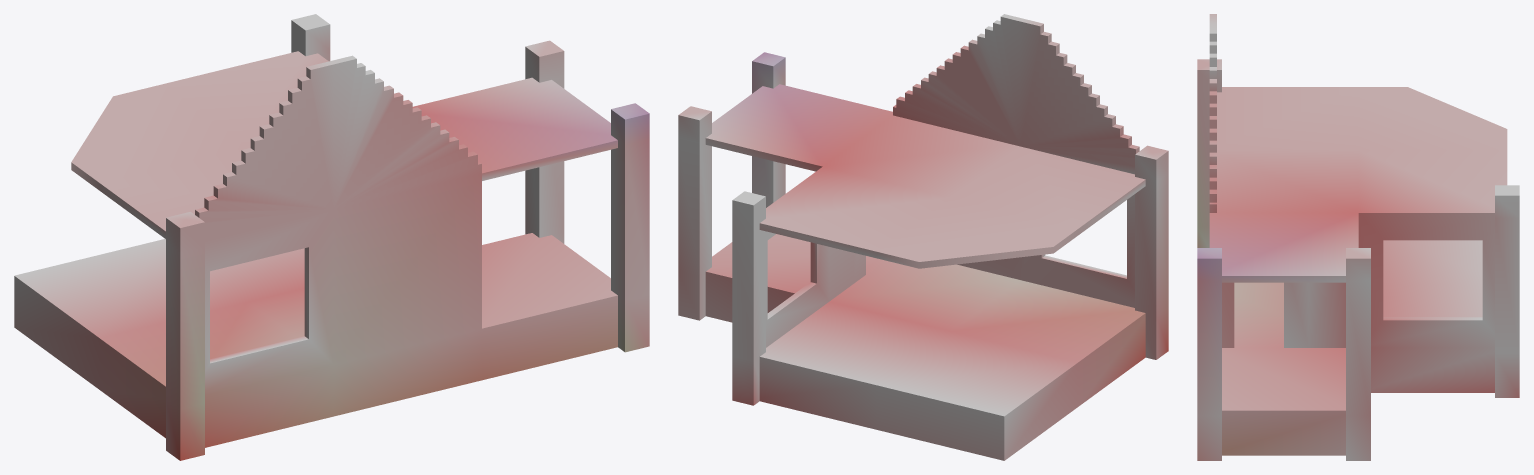
The model's file is Structures_6.fbx.
3 views of the same model, side by side, from view 1: azimuth 30°, elevation 25°; view 2: azimuth 150°, elevation 25°; view 3: azimuth 270°, elevation 25° (orthographic). The views are drawn at different scales.
Visible parts, largest first — view 1: Structures_6; view 2: Structures_6; view 3: Structures_6.
Part boxes in pixels (x1,y1,x2,y2): Structures_6: [14, 14, 649, 460]; Structures_6: [678, 14, 1168, 460]; Structures_6: [1197, 14, 1519, 460].
Size of what is drawn, in the model's own units: 950 by 681 by 650.
